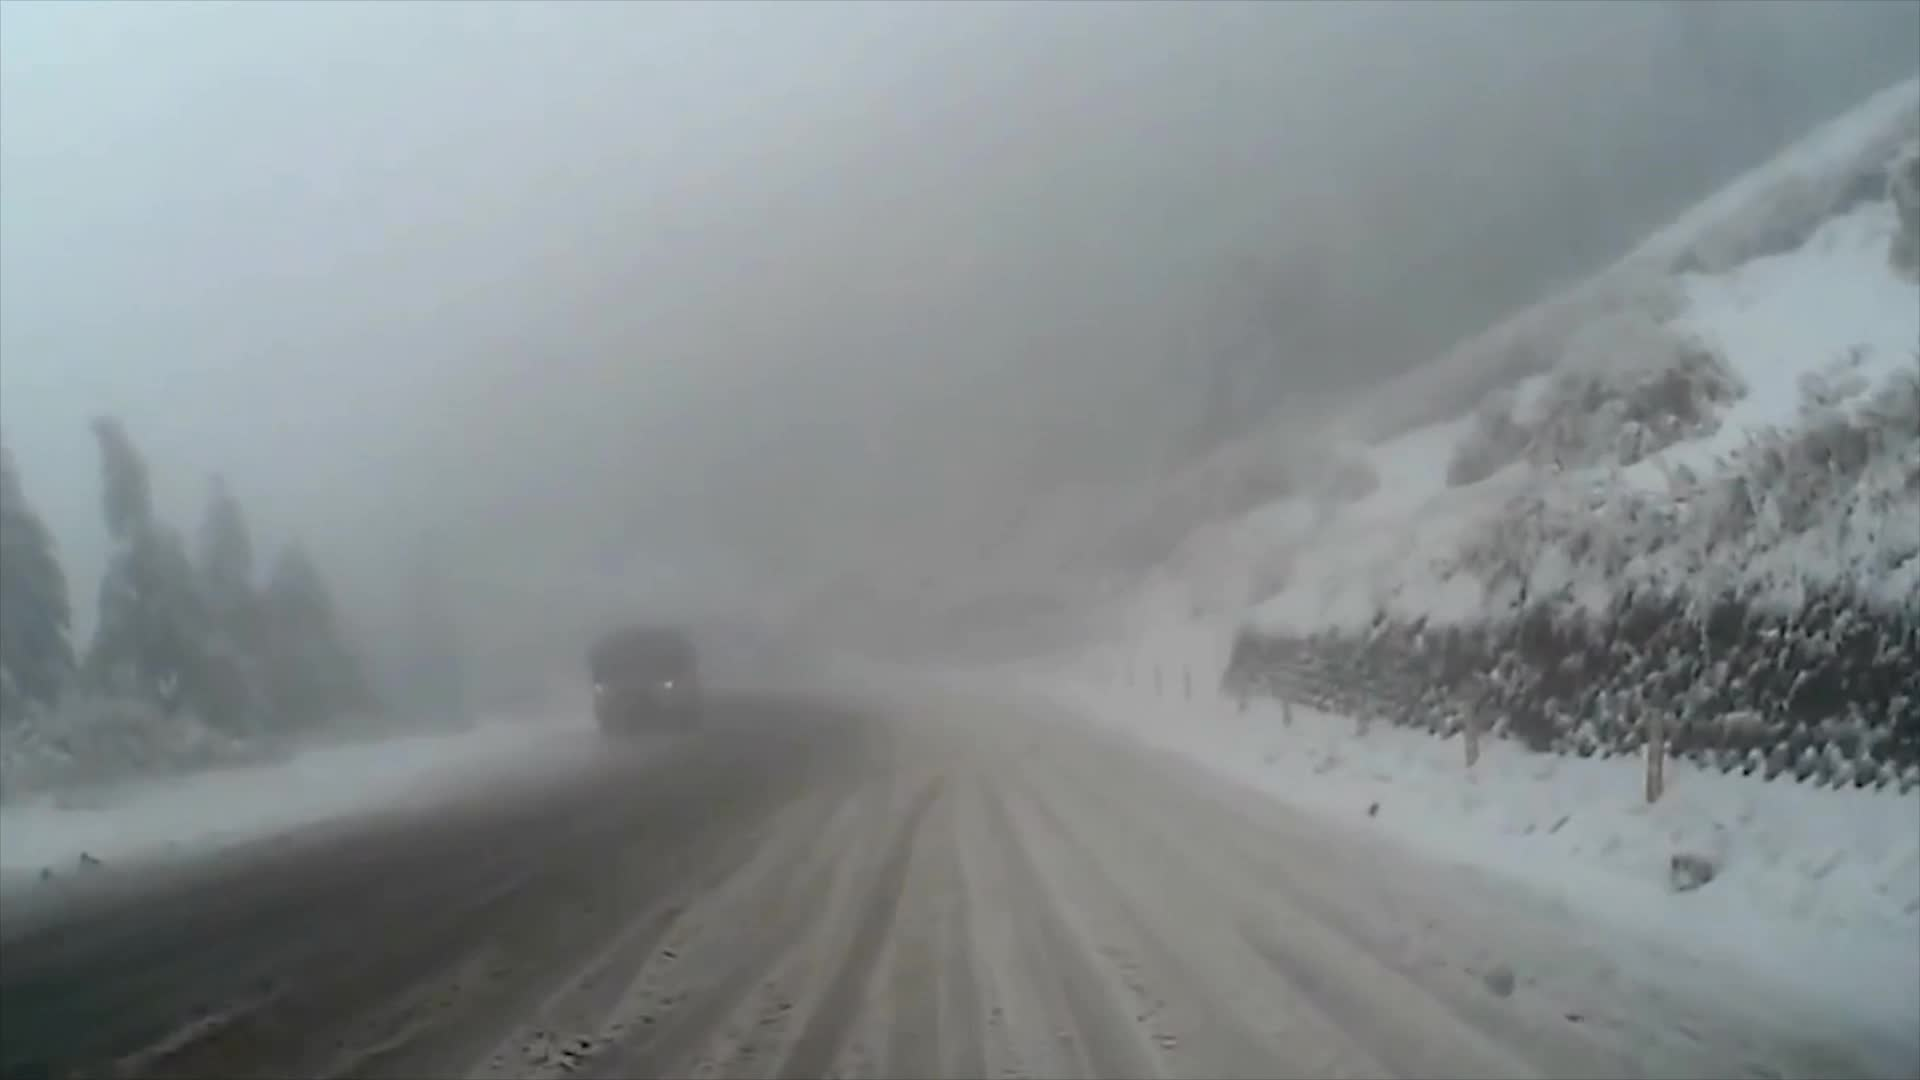vehicle: (580, 629, 698, 735)
